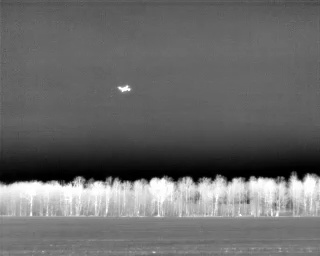DRONE: (114, 80, 136, 97)
